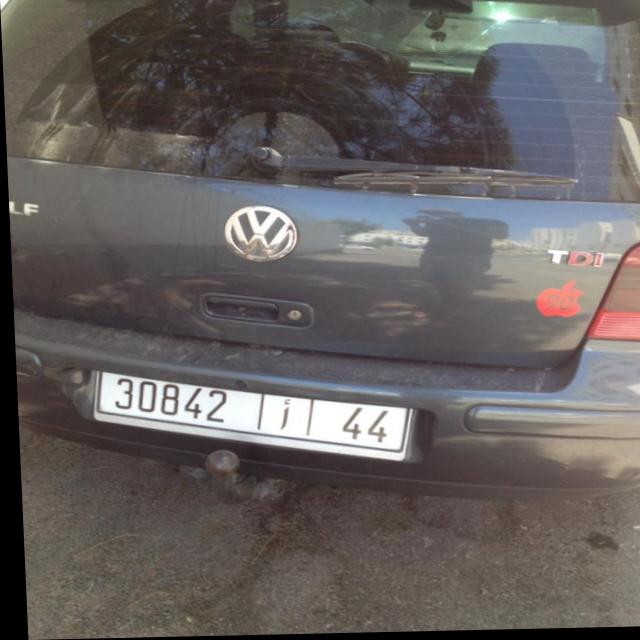License-Plate: (90, 372, 407, 462)
